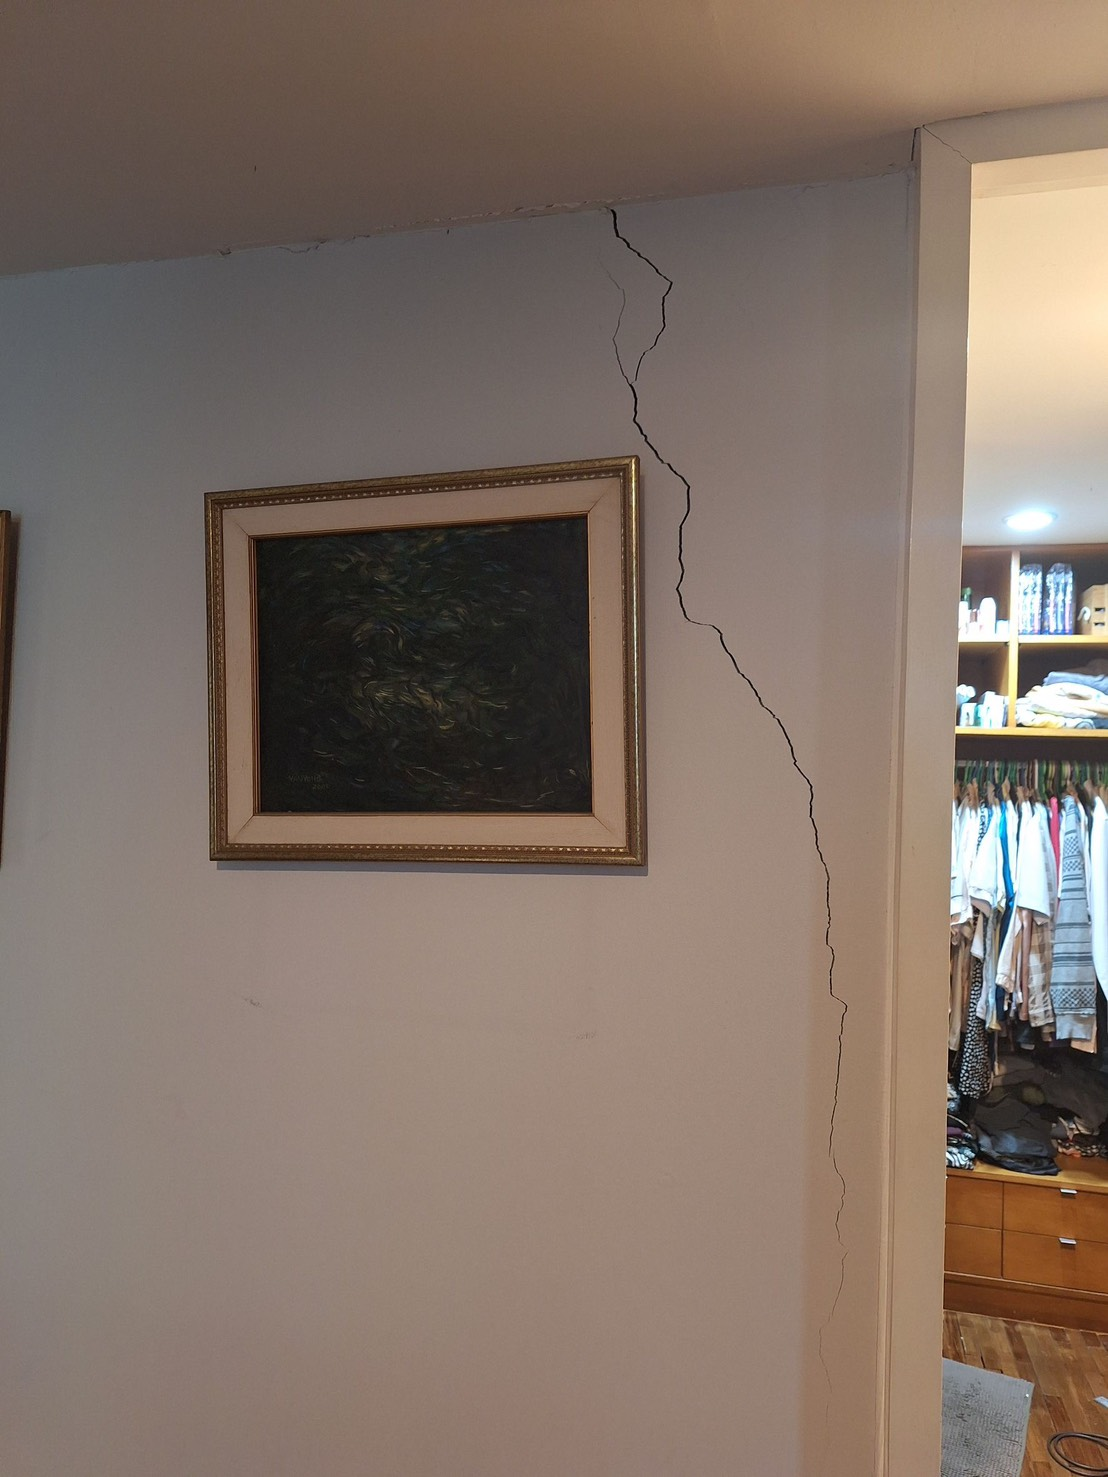Medium: (647, 376, 888, 999)
